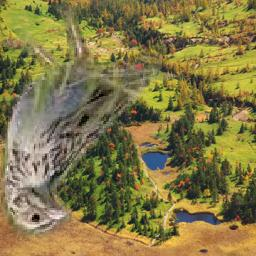Sparrow: (2, 4, 189, 238)
